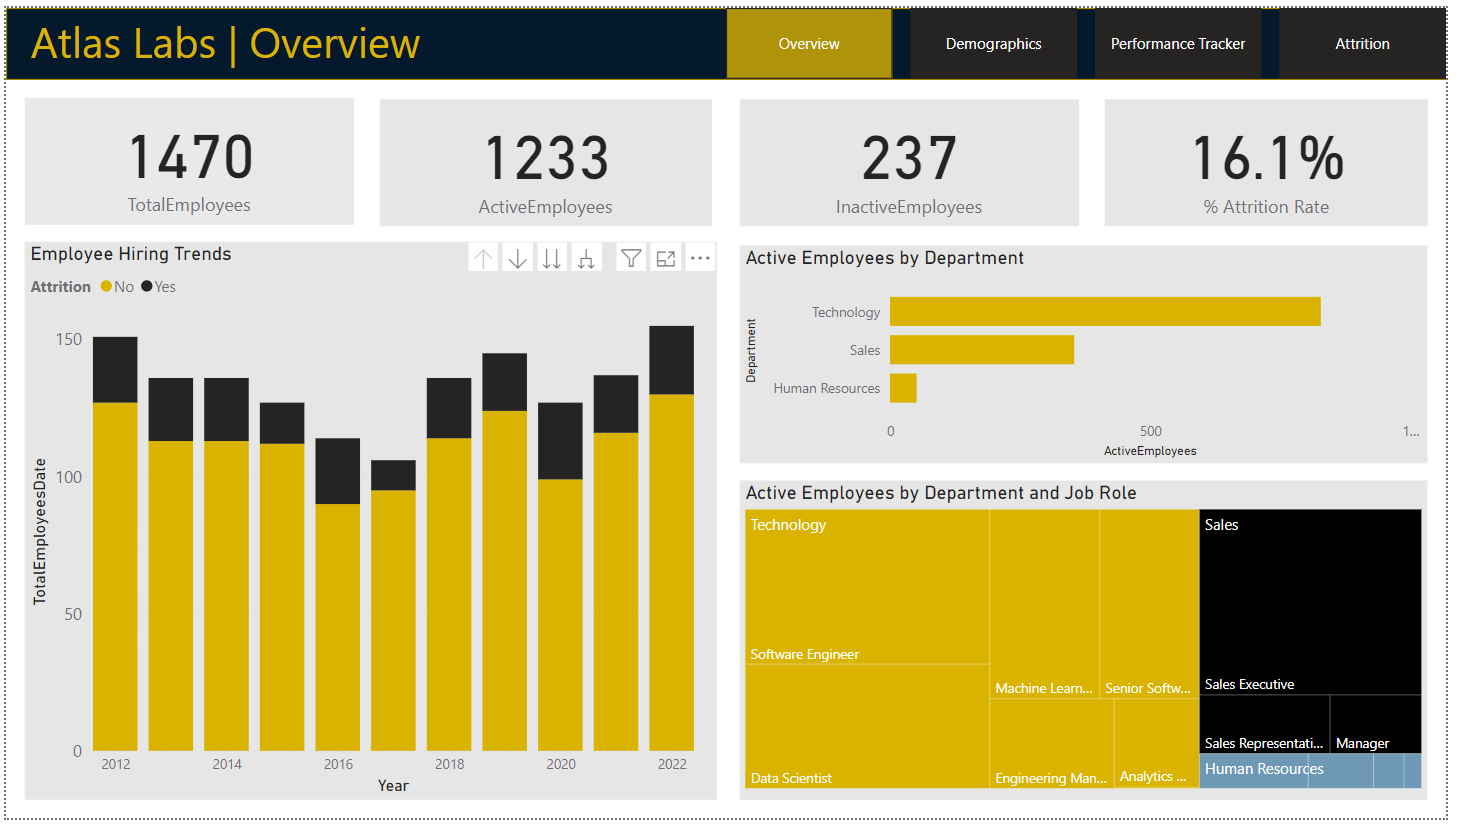

This screenshot's page, from the dashboard's own definition file:
{"tool":"powerbi","page":{"name":"Overview","canvas":[1280,720],"ordinal":0},"visuals":[{"type":"card","fields":{"Values":["_Measures.TotalEmployees"]},"box":[16.2,80,292.5,112.5],"z":0},{"type":"card","fields":{"Values":["_Measures.ActiveEmployees"]},"box":[332.5,81.2,295,112.5],"z":1000},{"type":"card","fields":{"Values":["_Measures.InactiveEmployees"]},"box":[652.5,81.2,301.2,112.5],"z":2000},{"type":"card","fields":{"Values":["_Measures.% Attrition Rate"]},"box":[976.2,81.2,287.5,112.5],"z":3000},{"type":"columnChart","title":"Employee Hiring Trends","fields":{"Y":["_Measures.TotalEmployeesDate"],"Category":["DimDate.Date.Variation.Date Hierarchy.Year","DimDate.Date.Variation.Date Hierarchy.Quarter","DimDate.Date.Variation.Date Hierarchy.Month","DimDate.Date.Variation.Date Hierarchy.Day"],"Series":["DimEmployee.Attrition"]},"box":[16.2,207.5,615,496.2],"z":4000},{"type":"clusteredBarChart","title":"Active Employees by Department","fields":{"Y":["_Measures.ActiveEmployees"],"Category":["DimEmployee.Department"]},"box":[652.5,211.2,611.2,193.8],"z":5000},{"type":"treemap","title":"Active Employees by Department and Job Role","fields":{"Values":["_Measures.ActiveEmployees"],"Group":["DimEmployee.Department"],"Details":["DimEmployee.JobRole"]},"box":[652.5,420,611.2,283.8],"z":6000},{"type":"shape","box":[0,0,1280,64],"z":7000},{"type":"textbox","box":[16.2,0,447.5,63.8],"z":8000},{"type":"pageNavigator","box":[640,0,640,63.8],"z":9000}]}

Visuals, with their boxes in screenshot pixels (x1, y1, x2, y2), scaled from the page's 1280x720 canvas onto the 1459x833 screenshot:
card - _Measures.TotalEmployees: x1=18 y1=93 x2=352 y2=223
card - _Measures.ActiveEmployees: x1=379 y1=94 x2=715 y2=224
card - _Measures.InactiveEmployees: x1=744 y1=94 x2=1087 y2=224
card - _Measures.% Attrition Rate: x1=1113 y1=94 x2=1440 y2=224
"Employee Hiring Trends" columnChart: x1=18 y1=240 x2=719 y2=814
"Active Employees by Department" clusteredBarChart: x1=744 y1=244 x2=1440 y2=469
"Active Employees by Department and Job Role" treemap: x1=744 y1=486 x2=1440 y2=814
shape: x1=0 y1=0 x2=1458 y2=74
textbox: x1=18 y1=0 x2=529 y2=74
pageNavigator: x1=730 y1=0 x2=1458 y2=74
